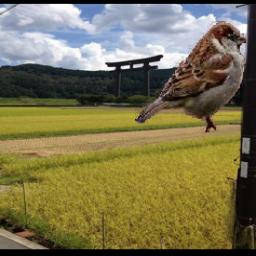Sparrow: (134, 21, 246, 132)
